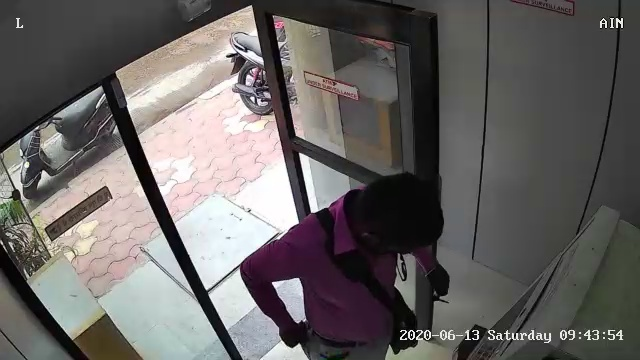open: (93, 7, 451, 349)
